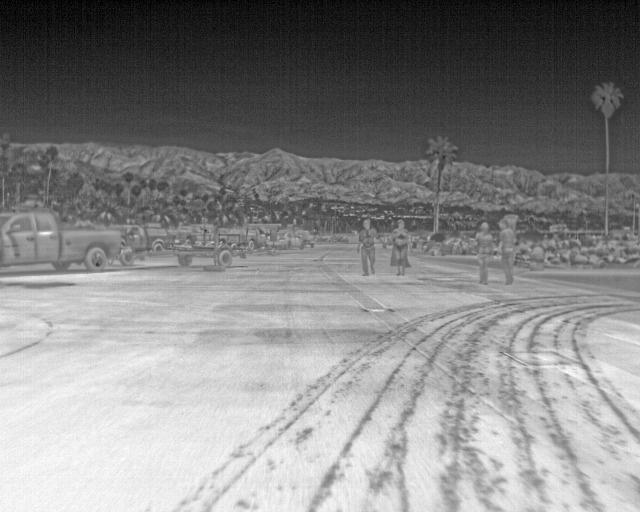bicycle: (1, 209, 124, 275), (144, 226, 174, 255)
empty: (385, 219, 413, 274), (496, 220, 518, 286), (355, 217, 379, 277), (475, 221, 495, 284)
